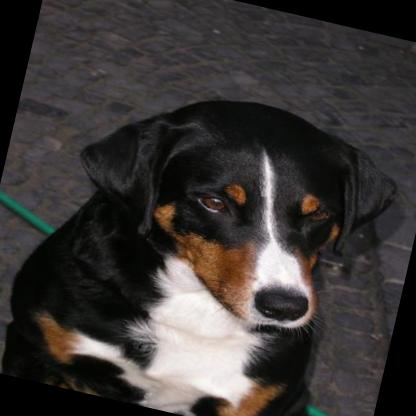Appenzeller: (0, 55, 409, 416)
